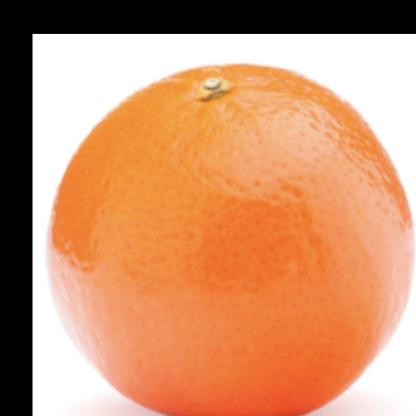fresh: (48, 63, 416, 416)
